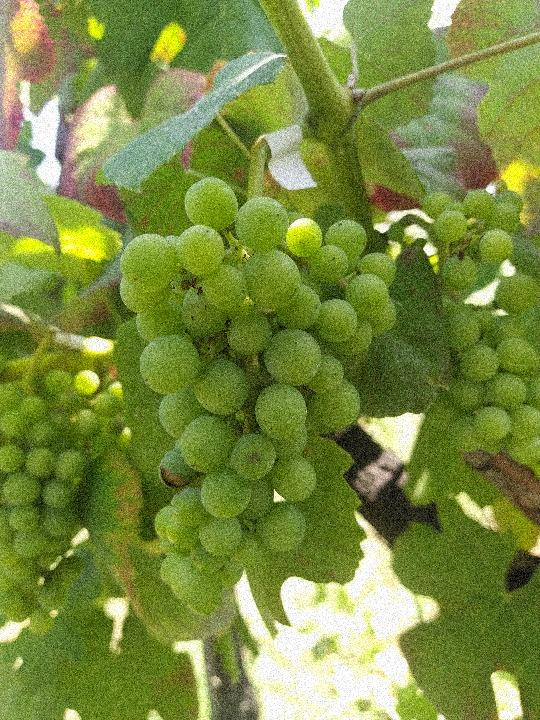grape: (117, 173, 400, 620)
